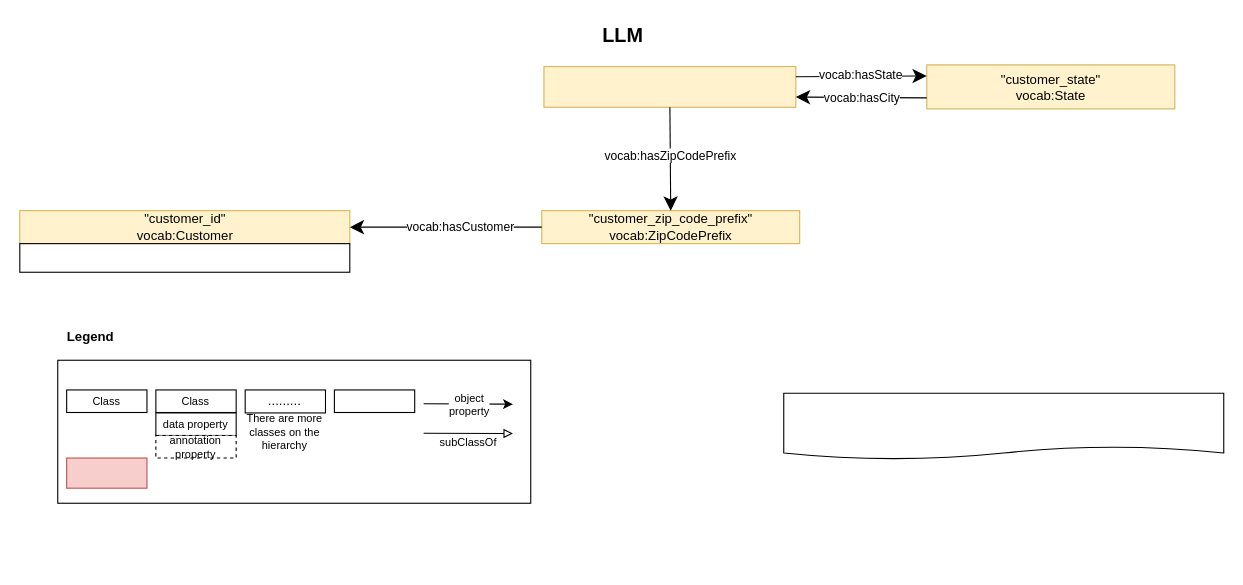
Some shapes in this 1243 by 585 pixel diagram are drawn without their labels. The shapes that lost their labels are listed below. From the top down, each one's box as (x1, y1, x2, y2) in pixels, then its label:
(543, 65, 796, 107): "customer_city" vocab:City
(19, 243, 350, 272): vocab:hasCustomerRef: "customer_unique_id"
(333, 389, 415, 413): Individual
(783, 392, 1224, 459): source file : olist_customers_dataset_20K.csv
(66, 457, 147, 488): Term excluded for the current version
